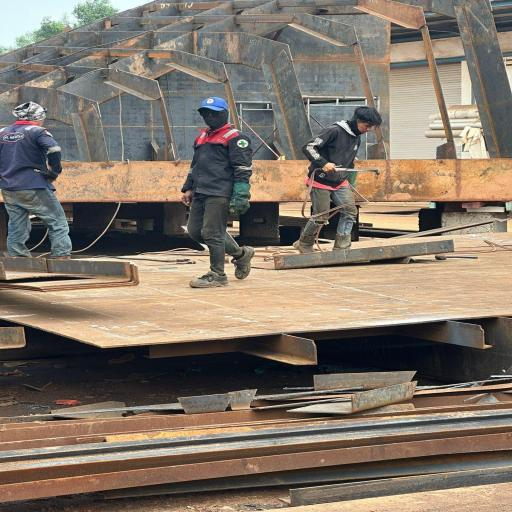safety_shoe: (231, 243, 255, 281), (190, 271, 230, 289), (294, 231, 320, 256)
